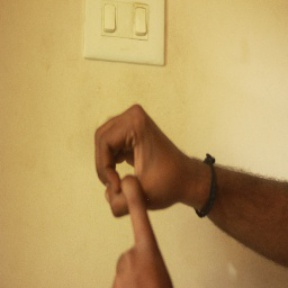Q: (71, 101, 195, 288)
